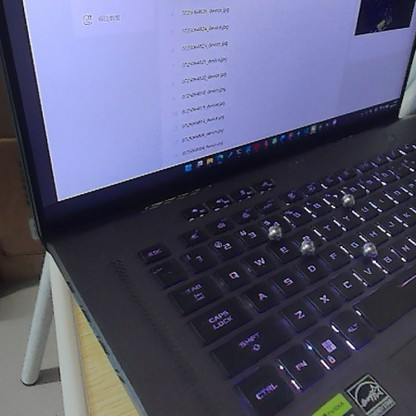ironball: (360, 239, 378, 263), (297, 238, 317, 259), (265, 221, 283, 243), (338, 190, 357, 209)
